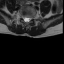CCS_normal: (25, 14, 28, 24)
LFS_normal: (30, 14, 32, 21)
LLS_normal: (28, 15, 30, 22)
RFS_normal: (21, 13, 23, 20)
RLS_normal: (23, 15, 25, 22)
